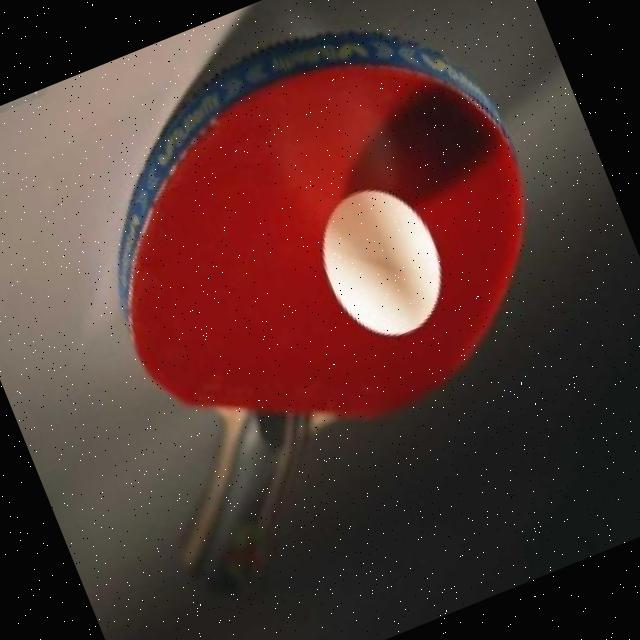ping-pong-ball: (299, 168, 462, 354)
